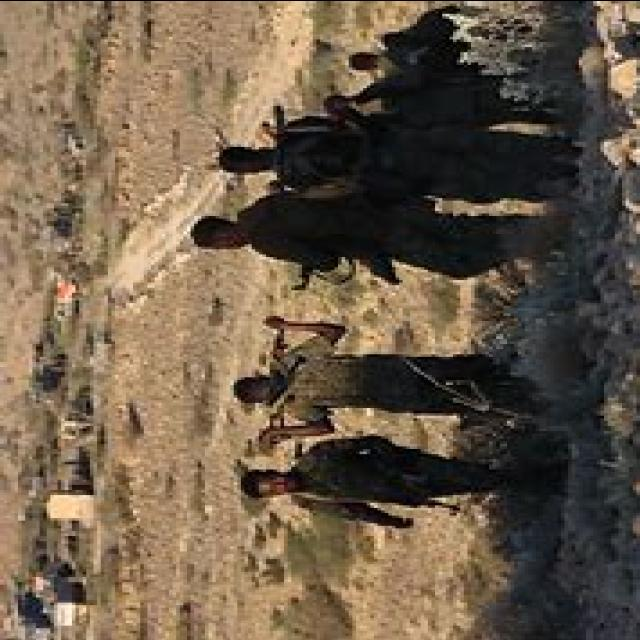terrorist: (234, 320, 518, 451), (216, 115, 575, 202), (191, 195, 518, 289), (241, 438, 525, 527), (302, 72, 557, 128)
